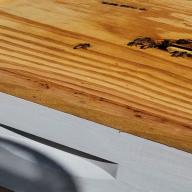Bee: (120, 33, 160, 53), (57, 35, 93, 53)
